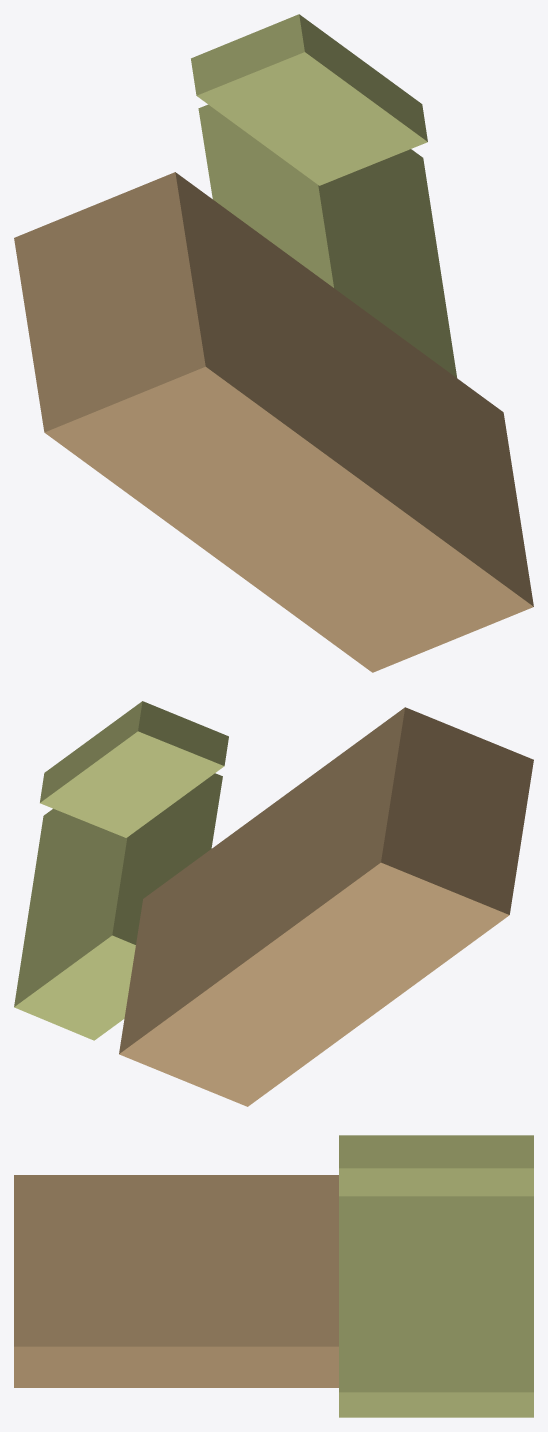
3 renders of one model, top to bottom at view 1: azimuth 30°, elevation 25°; view 2: azimuth 150°, elevation 25°; view 3: azimuth 270°, elevation 25°, orthographic. The views are drawn at different scales.
Parts seen in each view (by area): view 1: 0_2_3_3_3_0_2_3_0_3; view 2: 0_2_3_3_3_0_2_3_0_3; view 3: 0_2_3_3_3_0_2_3_0_3.
Boxes of the visible parts, bbox=[...] form: 0_2_3_3_3_0_2_3_0_3: bbox=[14, 14, 533, 672]; 0_2_3_3_3_0_2_3_0_3: bbox=[14, 701, 533, 1106]; 0_2_3_3_3_0_2_3_0_3: bbox=[14, 1135, 533, 1417].
Size of the model in its own units: 13.64 by 14.37 by 24.
